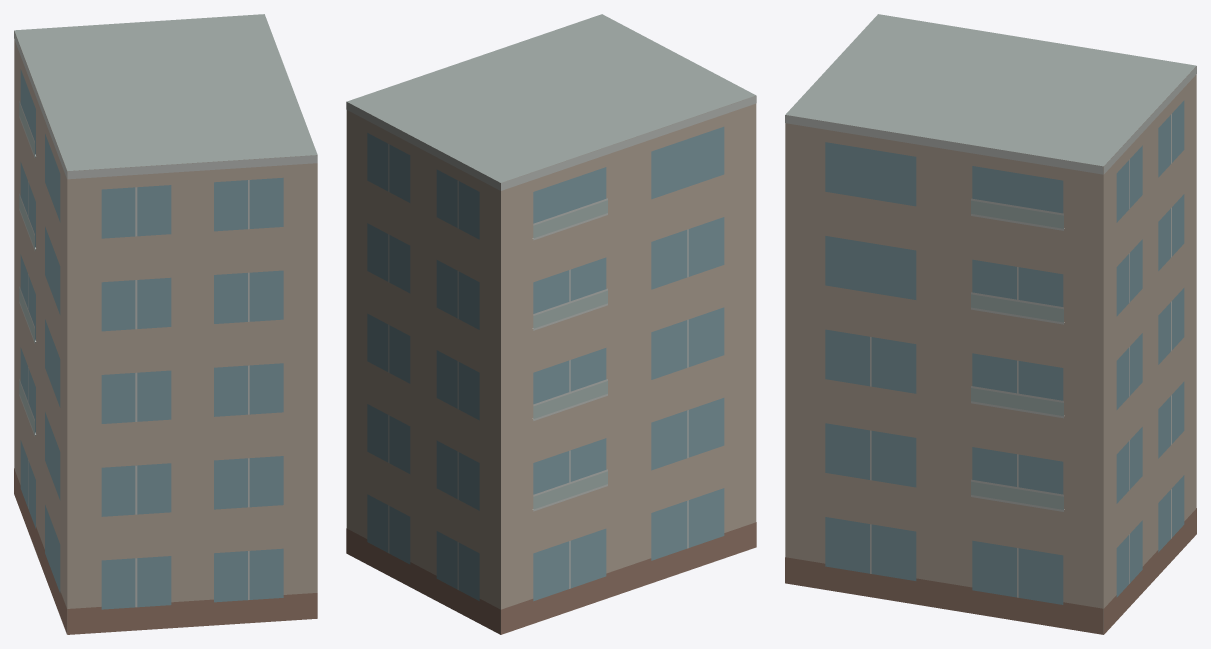
The model's file is survey-upis-32902186.glb.
3 views of the same model, side by side, from view 1: azimuth 30°, elevation 25°; view 2: azimuth 150°, elevation 25°; view 3: azimuth 270°, elevation 25° (orthographic). The views are drawn at different scales.
Visible parts, largest first — view 1: survey-upis-32902186.tmp; view 2: survey-upis-32902186.tmp; view 3: survey-upis-32902186.tmp.
Boxes of the visible parts, box(x1,y1,x2,y2) form: survey-upis-32902186.tmp: box(14, 14, 317, 634); survey-upis-32902186.tmp: box(346, 14, 756, 634); survey-upis-32902186.tmp: box(785, 14, 1196, 634).
Size of the model in its own units: 9.64 by 13.8 by 11.
